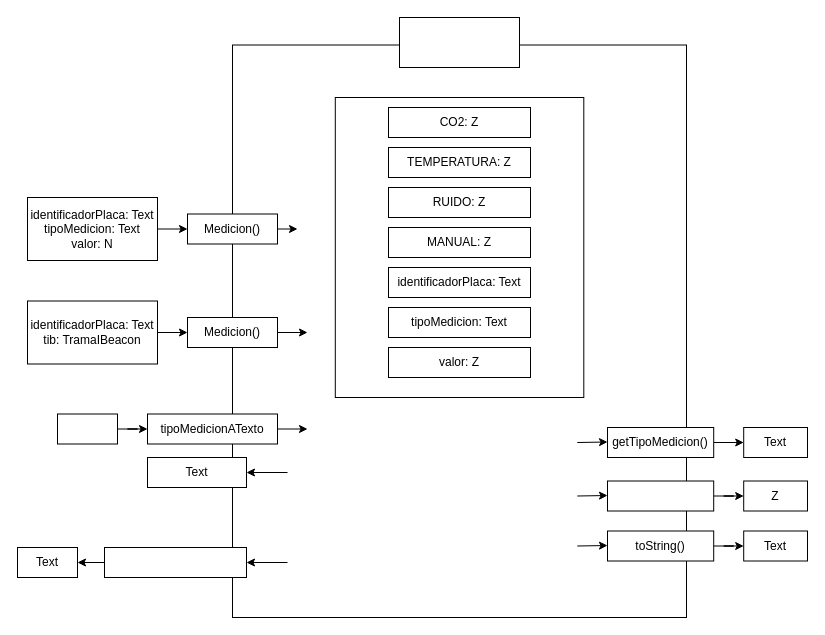
This 825x635 diagram has some shape labels left out. The shapes that lost their labels are listed below. From the top down, each one's box as (x1, y1, x2, y2) in pixels, then its label:
(398, 16, 520, 68): Medicion
(56, 413, 118, 444): tipo: Z
(606, 480, 714, 511): getValor()
(104, 546, 246, 578): getIdentificadorPlaca()
